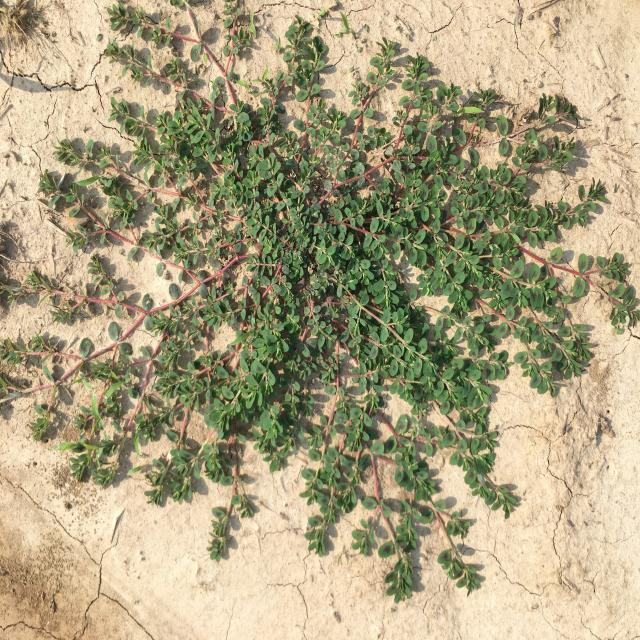SpottedSpurge: (0, 0, 639, 604)
